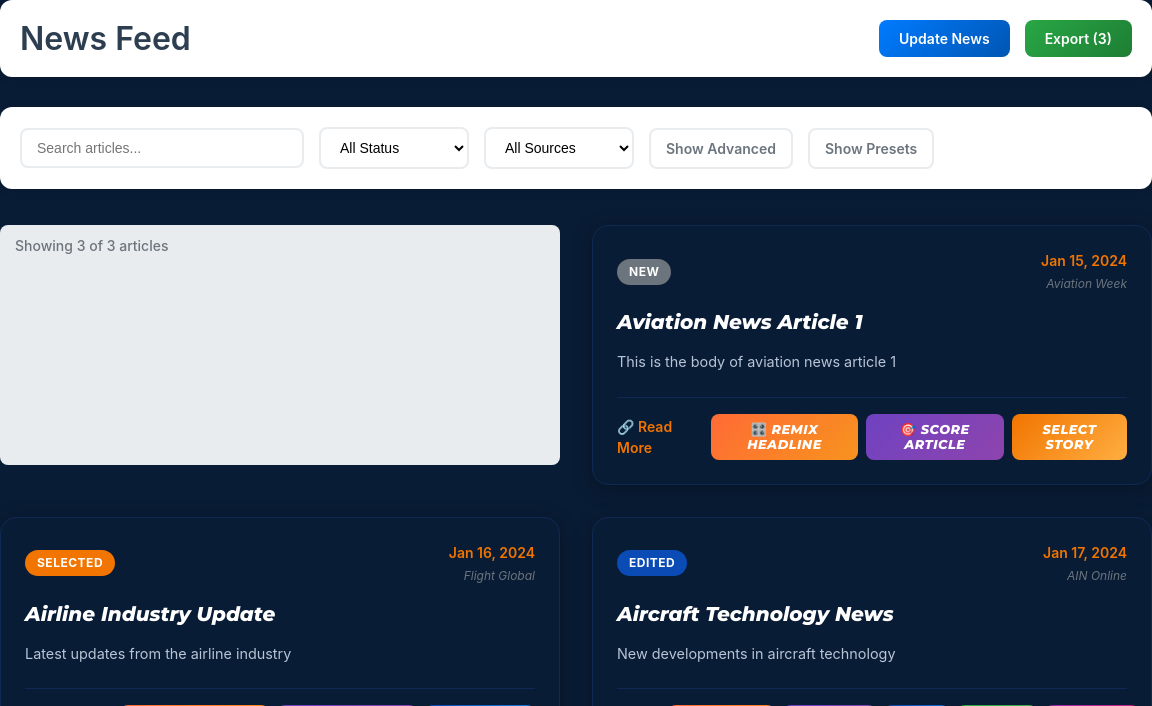
Scenario: Feed Component › Clear Filters › clears all filters when clear button is clicked
Expected: the heading "Aviation News Article 1" is shown, x1=617 y1=310 x2=862 y2=334
# Set some filters
Type "aviation" into the field with placeholder "Search articles...".
click(162, 148); type("aviation")  # box x1=20 y1=128 x2=304 y2=168
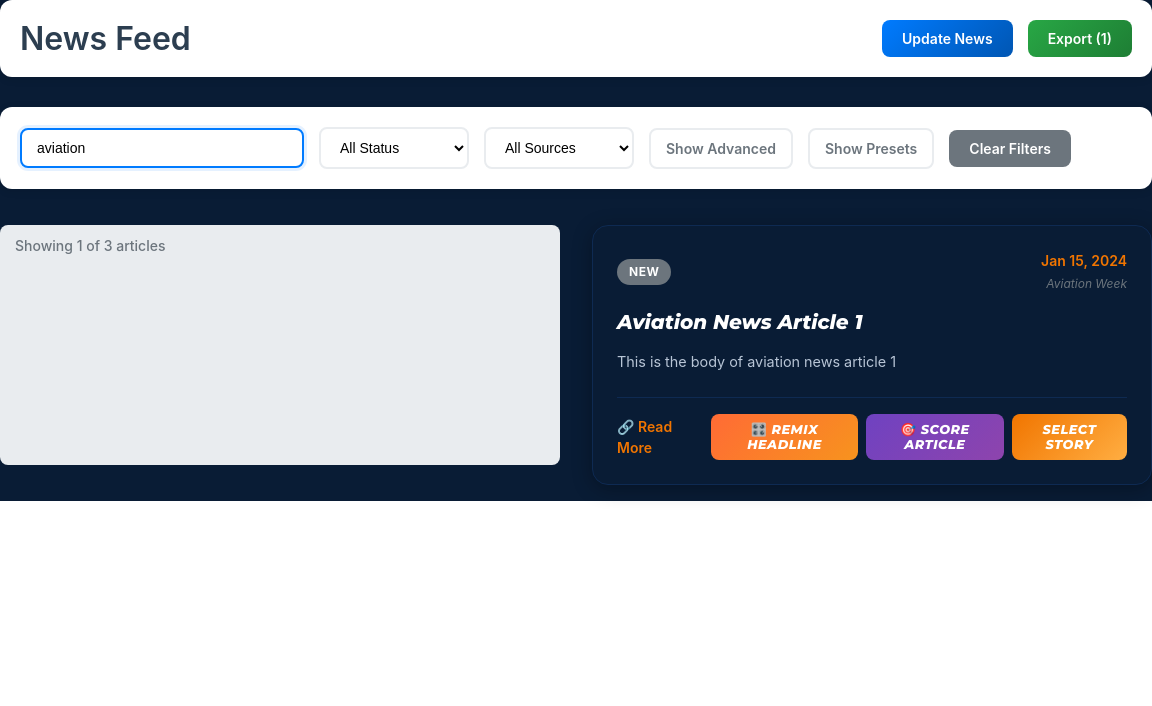
Expected: the heading "Aviation News Article 1" is shown, x1=617 y1=310 x2=862 y2=334
Expected: the heading "Airline Industry Update" is gone
# Clear filters
Click the button "Clear Filters".
click(1010, 148)  # box x1=949 y1=130 x2=1071 y2=166
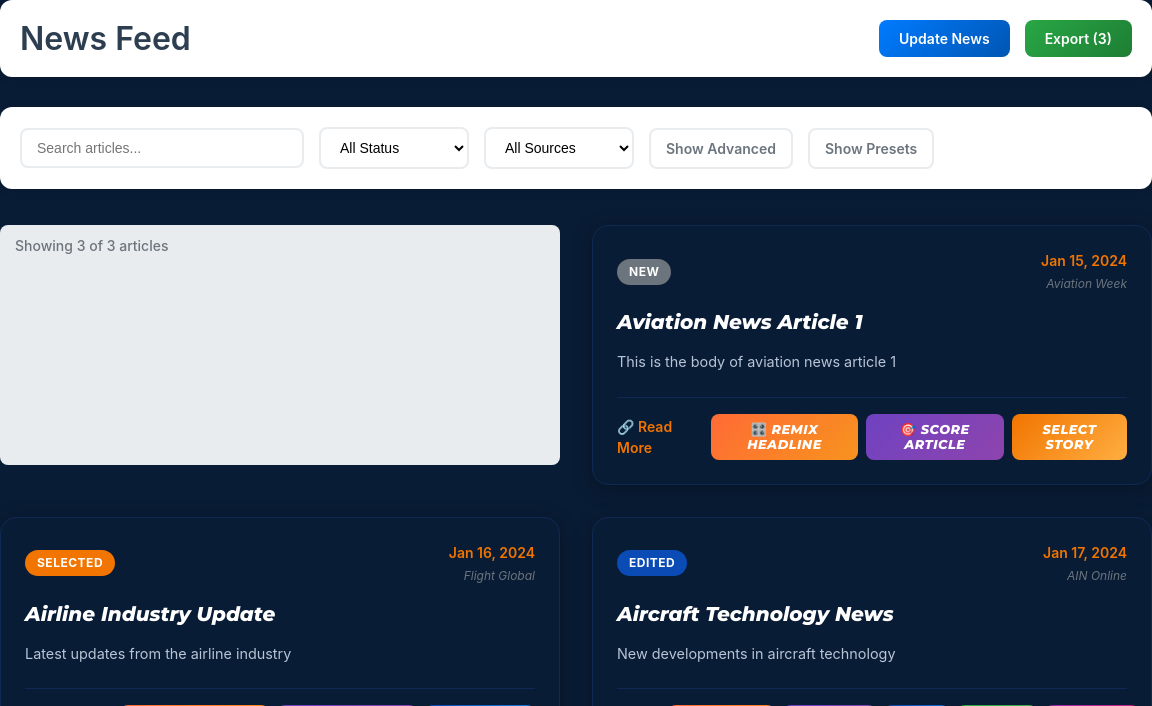
Expected: the heading "Aviation News Article 1" is shown, x1=617 y1=310 x2=862 y2=334
Expected: the heading "Airline Industry Update" is shown, x1=25 y1=602 x2=275 y2=626
Expected: the heading "Aircraft Technology News" is shown, x1=617 y1=602 x2=894 y2=626
